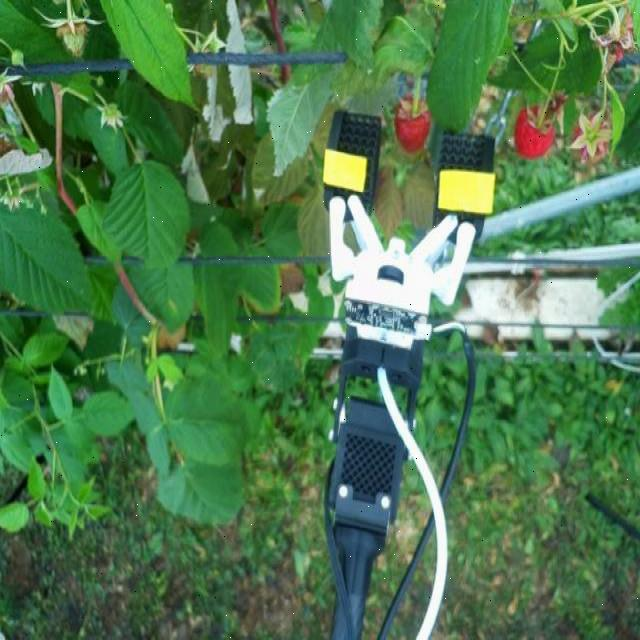Riped berries: (514, 99, 556, 162), (391, 90, 432, 154), (574, 105, 616, 164)
